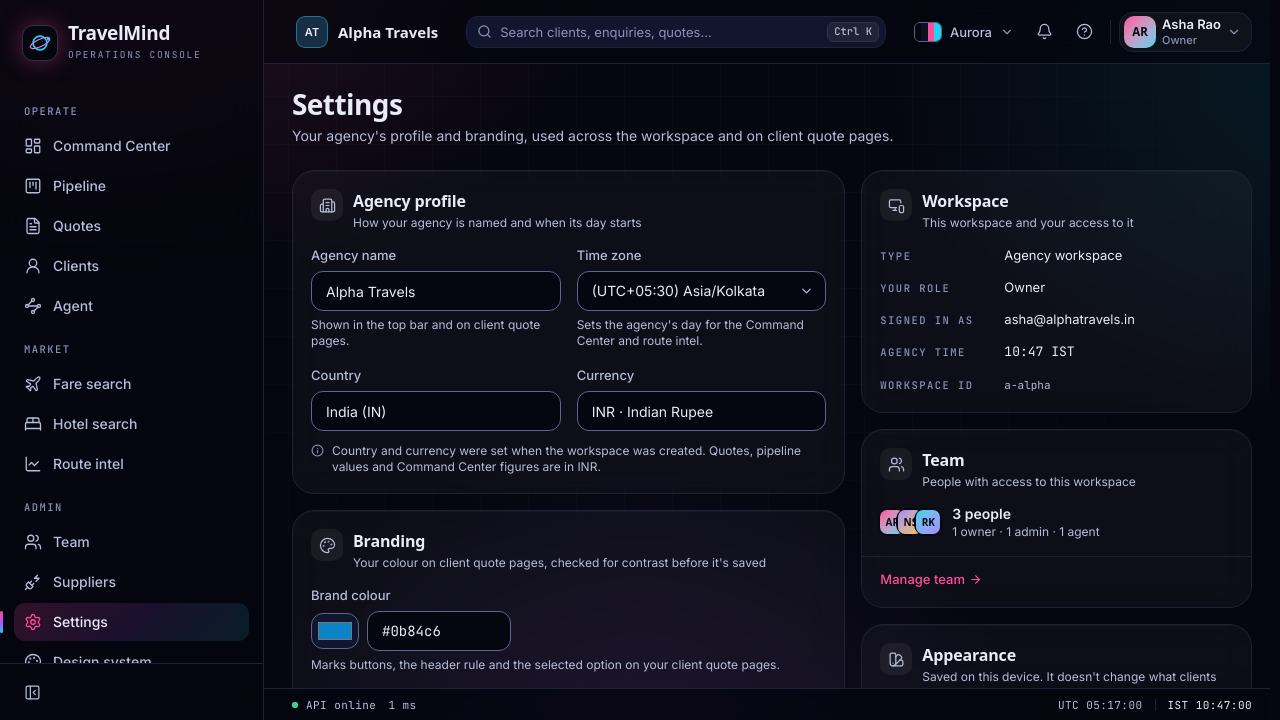
Test: Save sends only what changed, then confirms and refreshes the session's agency
Replace the text in the field labelled "Agency name" with "Alpha Travel Co" at (436,291), box [311,271,561,311]
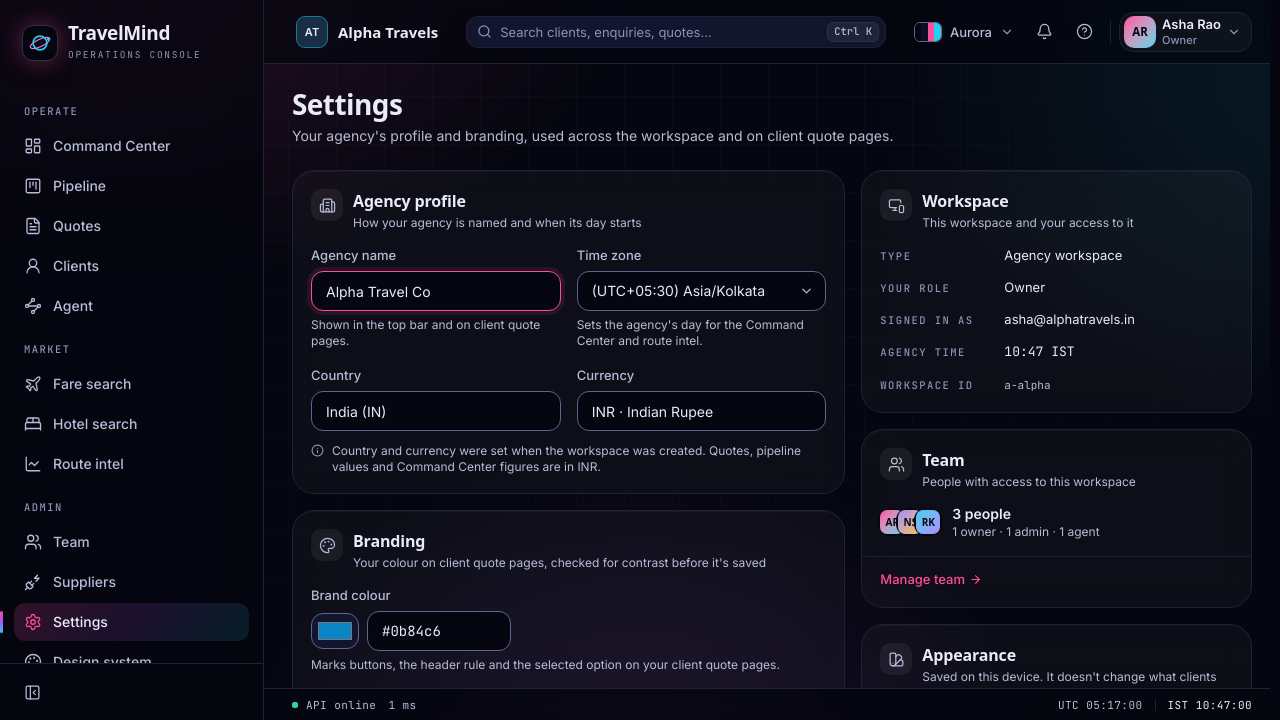
Select "(UTC+04:00) Asia/Dubai" in the dropdown labelled "Time zone" at (702,291), box [577,271,826,311]
(page scrolled)
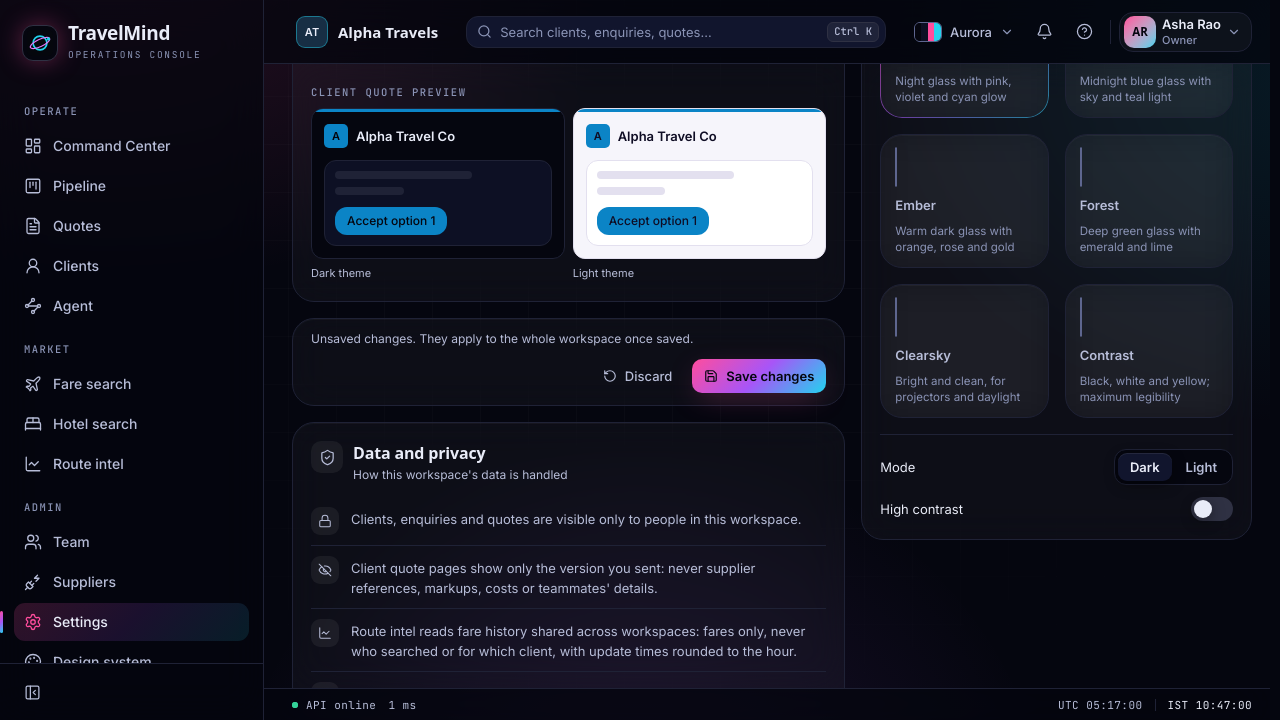
Click the button "Save changes" at (759,376), box [692,359,826,393]
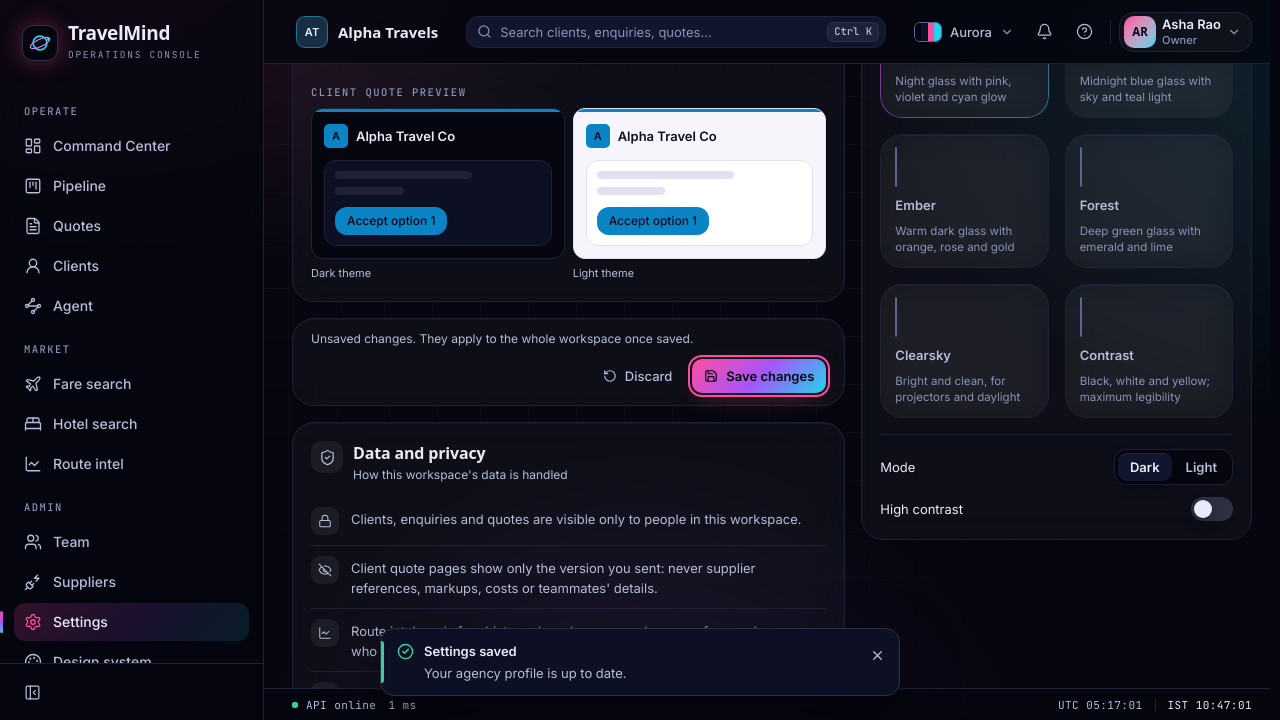
Now the text "Settings saved" is shown, box [424,643,517,659]
